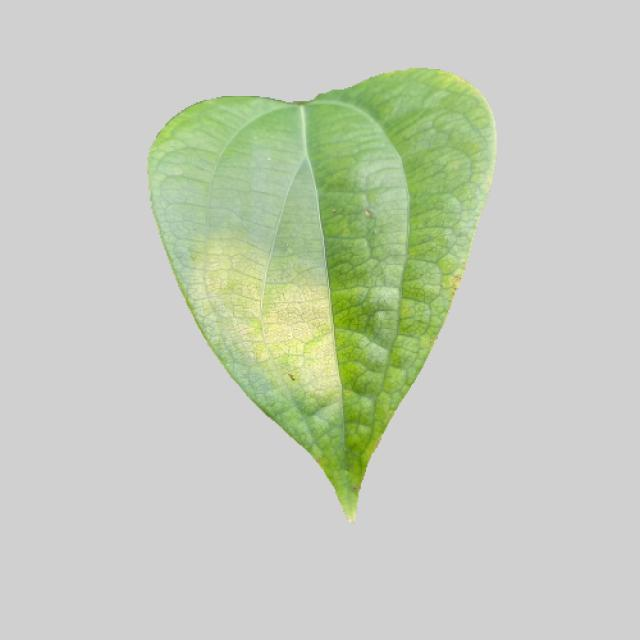healthy: (148, 60, 506, 521)
